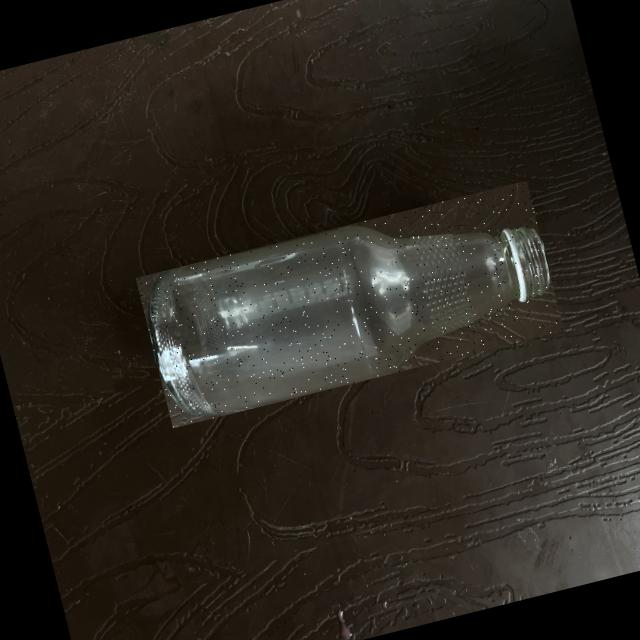Glass_Bottle: (149, 227, 549, 415)
